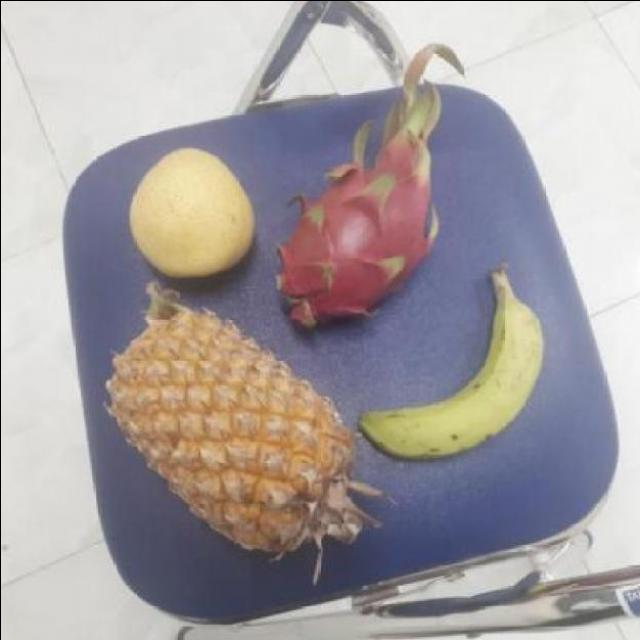banana: (359, 270, 547, 460)
dragon fruit: (273, 146, 441, 328)
pear: (127, 148, 264, 278)
pineapple: (121, 304, 369, 550)
